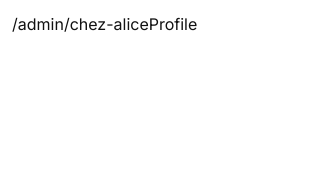
Test: push identity lifecycle › routes an owned notification after navigation without replacing its listener
Click the link "Profile" at (173, 24), box [149, 14, 197, 34]
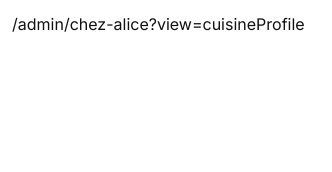
Check: the text named "current-route" reads "/admin/chez-alice?view=cuisine", box [12, 14, 256, 34]
